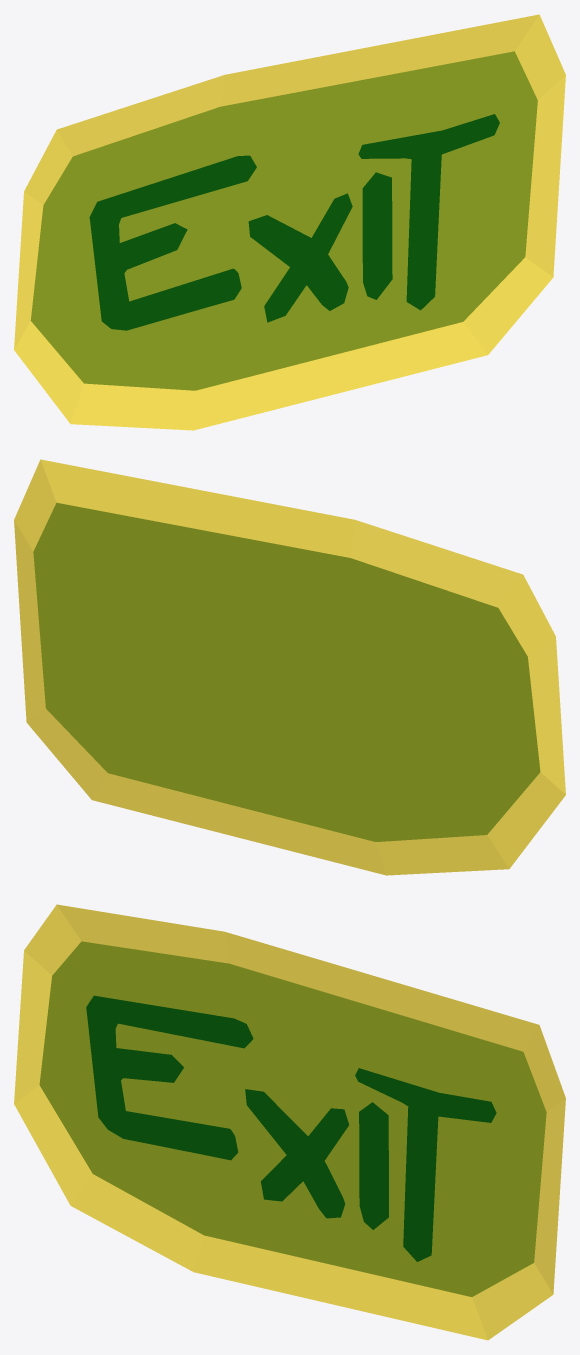
Rendered from exit-004.gltf.
3 renders of one model, top to bottom at view 1: azimuth 30°, elevation 25°; view 2: azimuth 150°, elevation 25°; view 3: azimuth 330°, elevation 25°, orthographic.
Visible parts, largest first — view 1: Cartel-Exit-f.004; view 2: Cartel-Exit-f.004; view 3: Cartel-Exit-f.004.
Boxes of the visible parts, left/top/right/bottom form: Cartel-Exit-f.004: left=14, top=14, right=565, bottom=430; Cartel-Exit-f.004: left=14, top=459, right=565, bottom=875; Cartel-Exit-f.004: left=14, top=904, right=565, bottom=1340.
Bounding box in the file's own units: 0.2773 × 0.1671 × 0.00527.
1 material, 1 textured.
